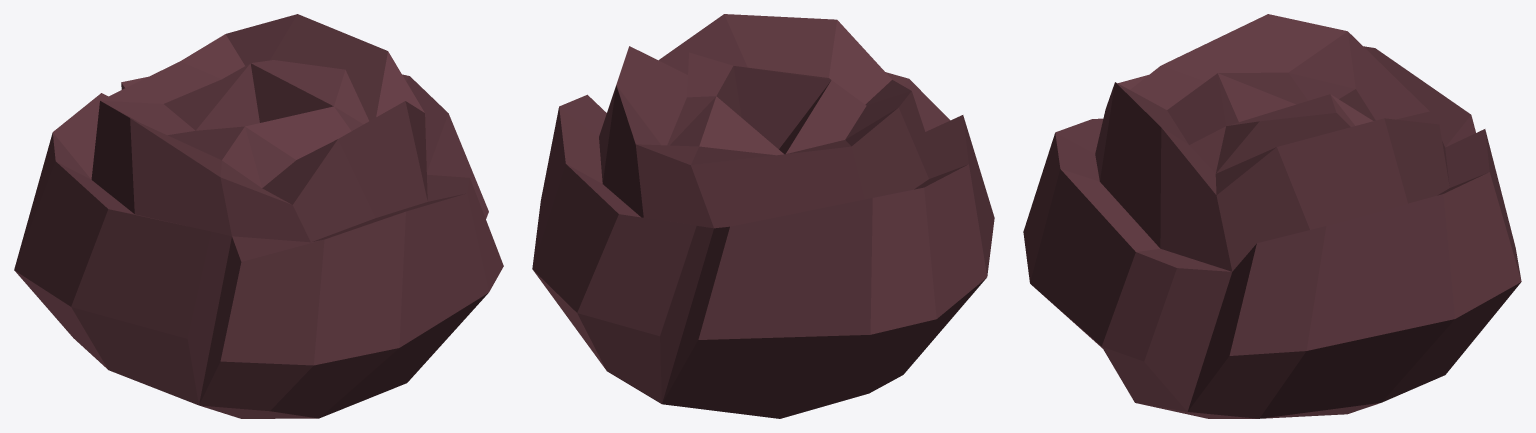
Rendered from plant-salad.fbx.
3 renders of one model, left to right at view 1: azimuth 30°, elevation 25°; view 2: azimuth 150°, elevation 25°; view 3: azimuth 270°, elevation 25°, orthographic. The views are drawn at different scales.
Parts seen in each view (by area): view 1: plant-salad; view 2: plant-salad; view 3: plant-salad.
Boxes of the visible parts, x1=… form: plant-salad: x1=14, y1=14, x2=503, y2=418; plant-salad: x1=532, y1=14, x2=994, y2=418; plant-salad: x1=1023, y1=14, x2=1521, y2=418.
Bounding box in the file's own units: 0.3884 × 0.2701 × 0.3864.
